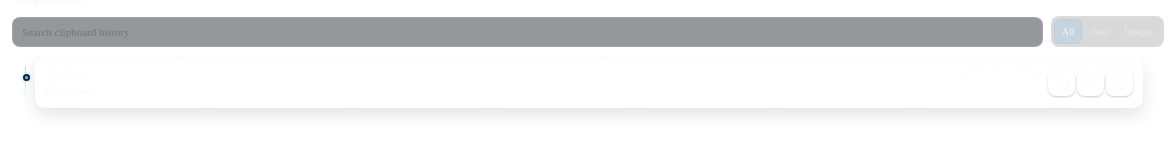
Scenario: clipboard history page › does not resurrect a row from a late action or stale snapshot after delete
Click the button named "Copy — Delete race". click: (1062, 83)
box: [1048, 70, 1075, 96]
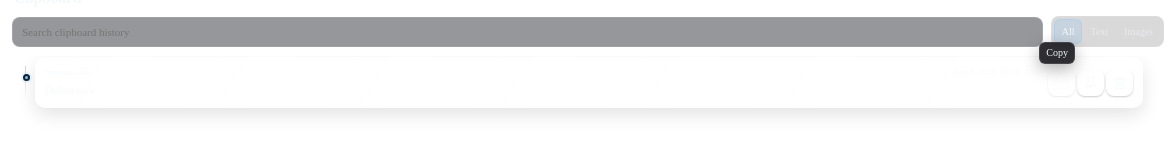
Click the button named "Delete — Delete race". click: (1120, 83)
box: [1106, 70, 1133, 96]
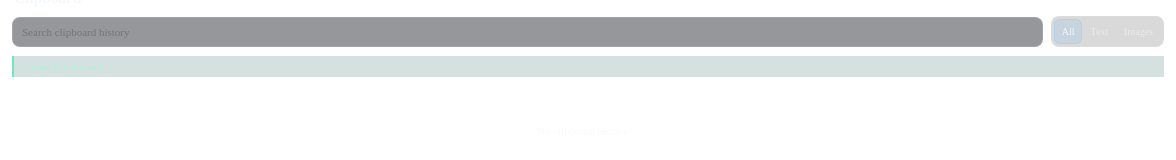
expect the list item with test id "clipboard-item-item-1" is gone: met
